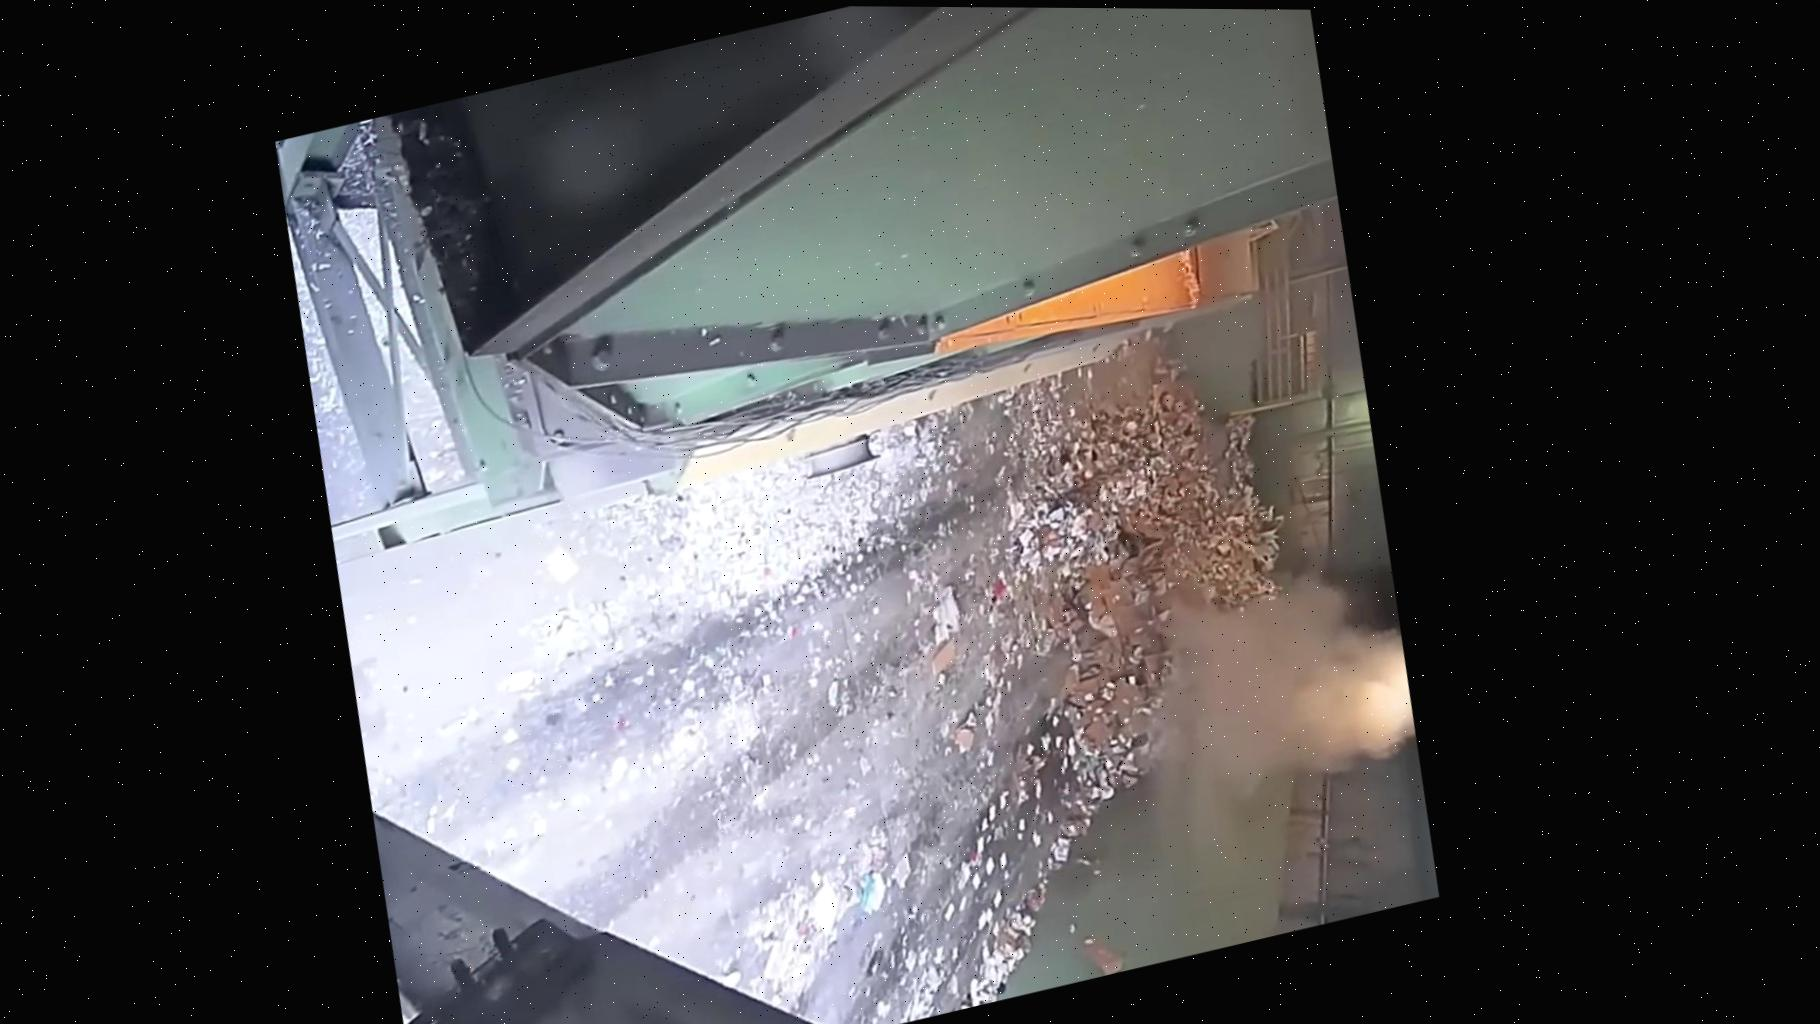smoke: (1071, 533, 1412, 836)
